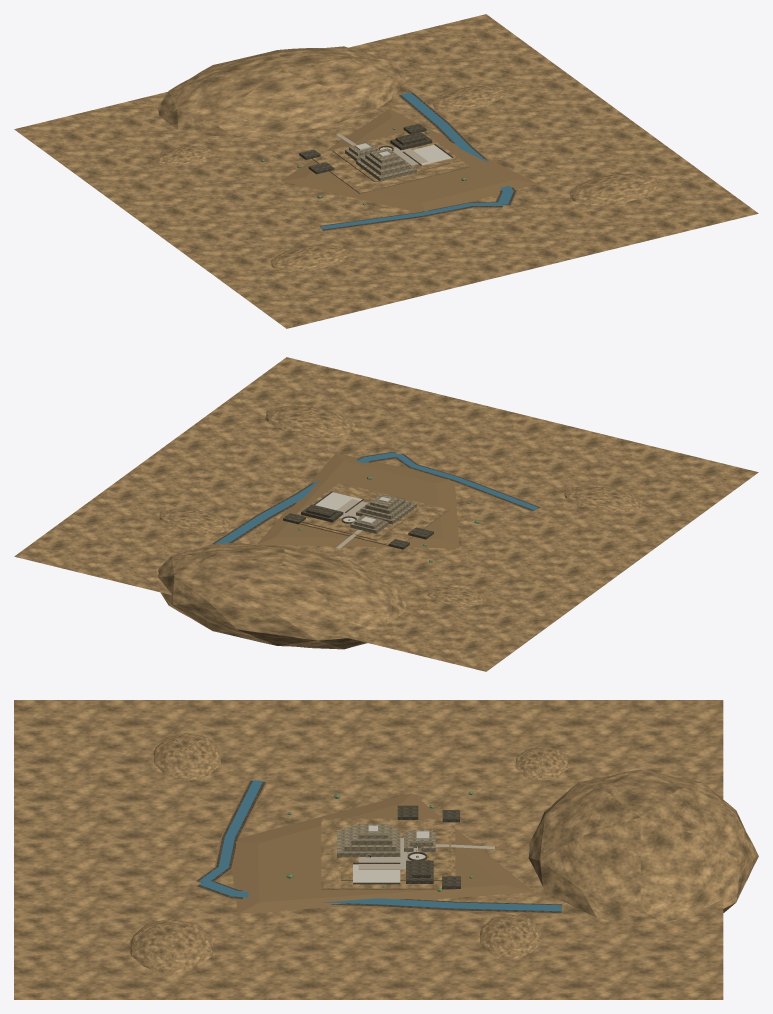
3 views of the same model, one above another, from view 1: azimuth 30°, elevation 25°; view 2: azimuth 150°, elevation 25°; view 3: azimuth 270°, elevation 25° (orthographic). The views are drawn at different scales.
Parts seen in each view (by area): view 1: GEO-Chavin_LOD1_Terrain, GEO-Chavin_LOD1_City; view 2: GEO-Chavin_LOD1_Terrain, GEO-Chavin_LOD1_City; view 3: GEO-Chavin_LOD1_Terrain, GEO-Chavin_LOD1_City.
Boxes of the visible parts, x1,y1,x2,y2 form: GEO-Chavin_LOD1_Terrain: (14,14,758,328); GEO-Chavin_LOD1_City: (299,123,453,181); GEO-Chavin_LOD1_Terrain: (14,357,758,671); GEO-Chavin_LOD1_City: (283,491,433,549); GEO-Chavin_LOD1_Terrain: (14,700,758,999); GEO-Chavin_LOD1_City: (337,805,460,888).
Bounding box in the file's own units: 900 × 110 × 945.
11 materials, 5 textured.
